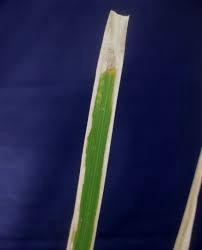2 BacterialBlight: (63, 9, 132, 248)
